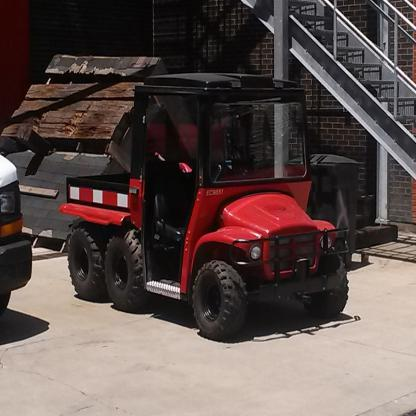Truck: (59, 71, 351, 337)
